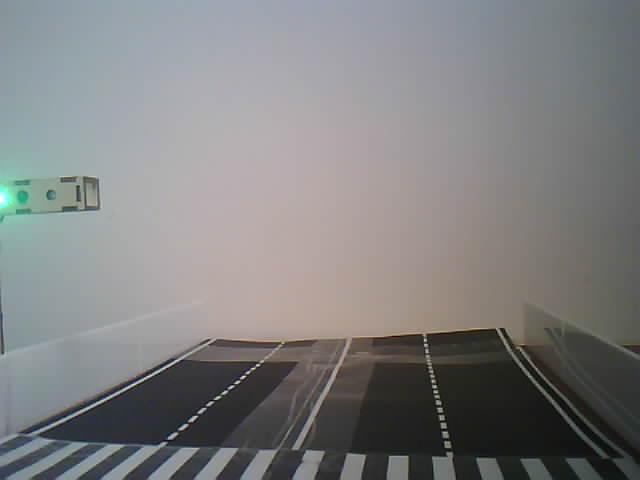crosswalk: (0, 408, 640, 480)
green: (0, 172, 108, 232)
